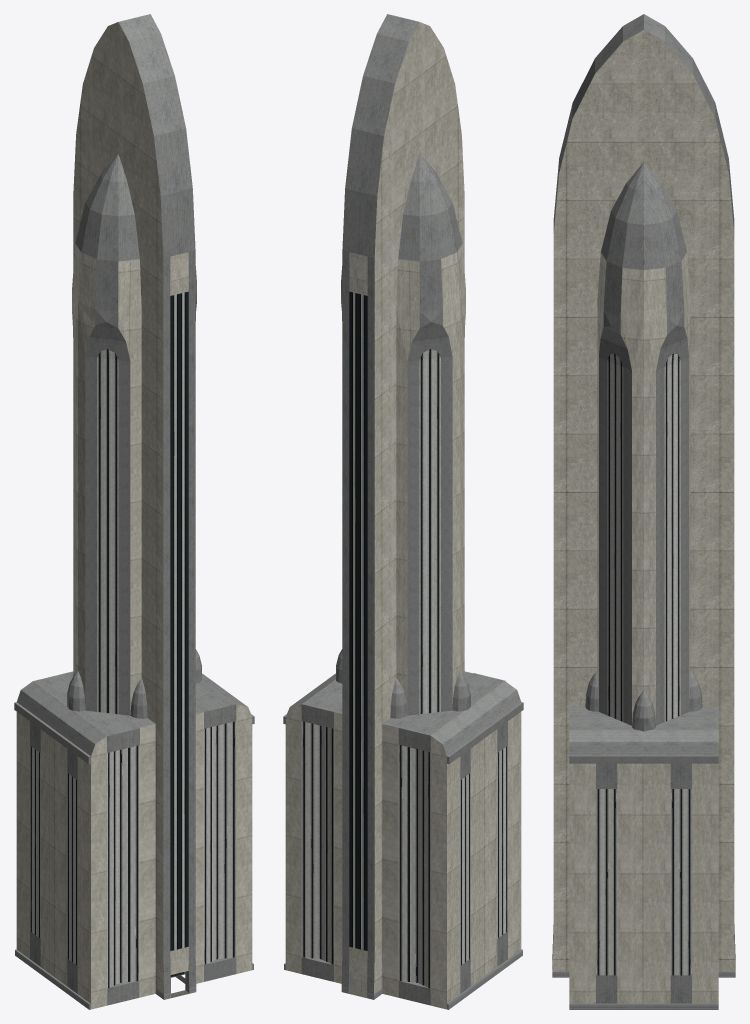
File: thm_corl_skyskraper_s02_r0_mesh_l1.fbx
The picture shows the model from 3 angles, left to right: view 1: azimuth 30°, elevation 25°; view 2: azimuth 150°, elevation 25°; view 3: azimuth 270°, elevation 25°; orthographic projection.
Visible parts, largest first — view 1: mesh_node; view 2: mesh_node; view 3: mesh_node.
Boxes of the visible parts, bbox=[...] form: mesh_node: bbox=[14, 14, 254, 1009]; mesh_node: bbox=[283, 14, 523, 1009]; mesh_node: bbox=[552, 14, 735, 1009].
Bounding box in the file's own units: 35.52 × 193 × 33.84.
